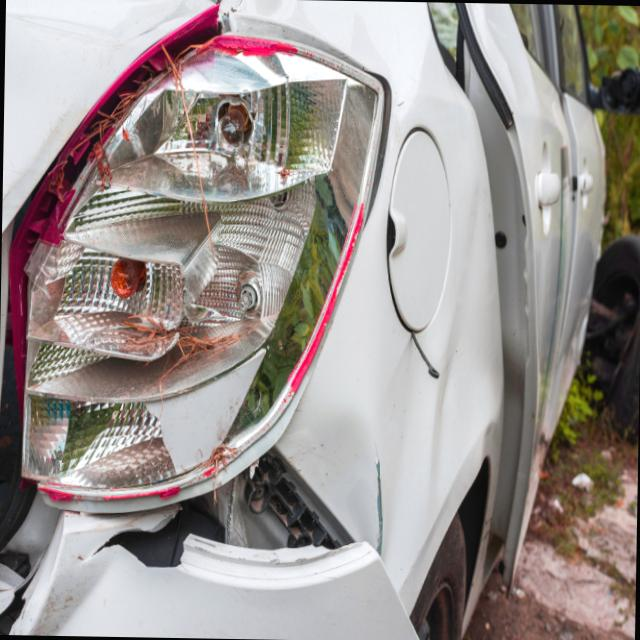Cabossage: (422, 215, 516, 496)
Dechirure: (78, 390, 362, 601), (0, 570, 44, 635)
Phare abime: (8, 21, 387, 526)
Rayure: (369, 442, 390, 556)
